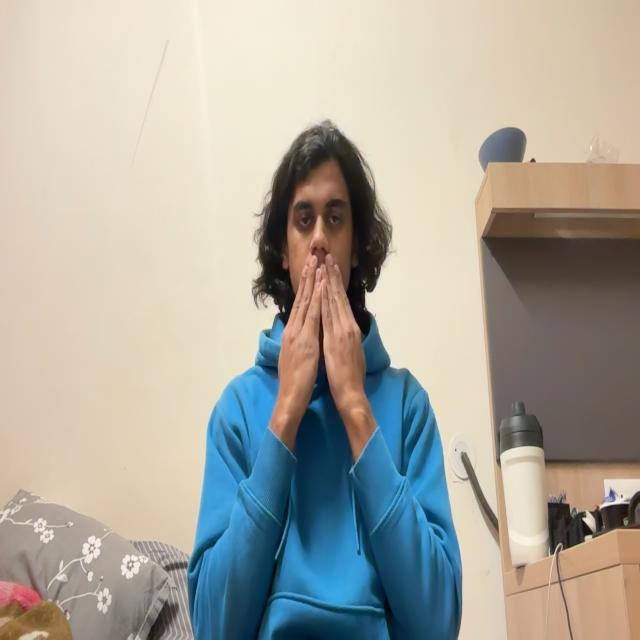Thanks: (276, 255, 388, 457)
